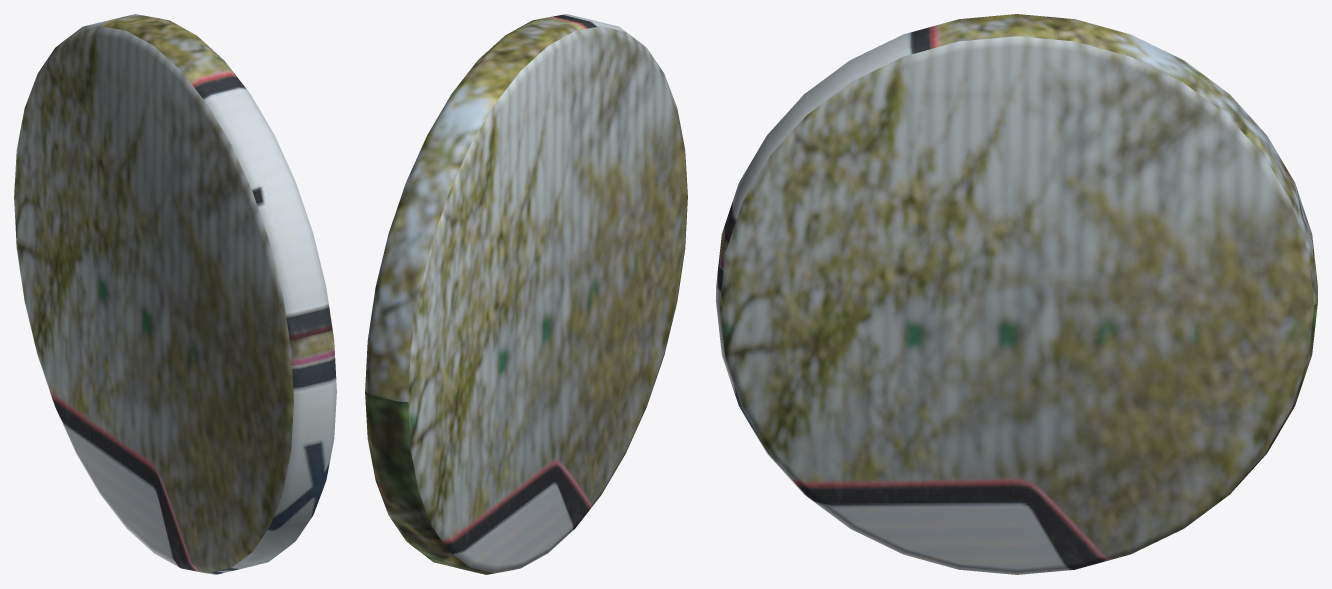
File: SM_Sign_02.fbx
3 renders of one model, left to right at view 1: azimuth 30°, elevation 25°; view 2: azimuth 150°, elevation 25°; view 3: azimuth 270°, elevation 25°, orthographic. The views are drawn at different scales.
Visible parts, largest first — view 1: SM_Sign_Anim_01.002; view 2: SM_Sign_Anim_01.002; view 3: SM_Sign_Anim_01.002.
Part boxes in pixels (<box>): SM_Sign_Anim_01.002: <box>14,14,336,574</box>; SM_Sign_Anim_01.002: <box>365,14,687,574</box>; SM_Sign_Anim_01.002: <box>716,14,1317,574</box>.
Size of the model in its own units: 8 by 80 by 80.
